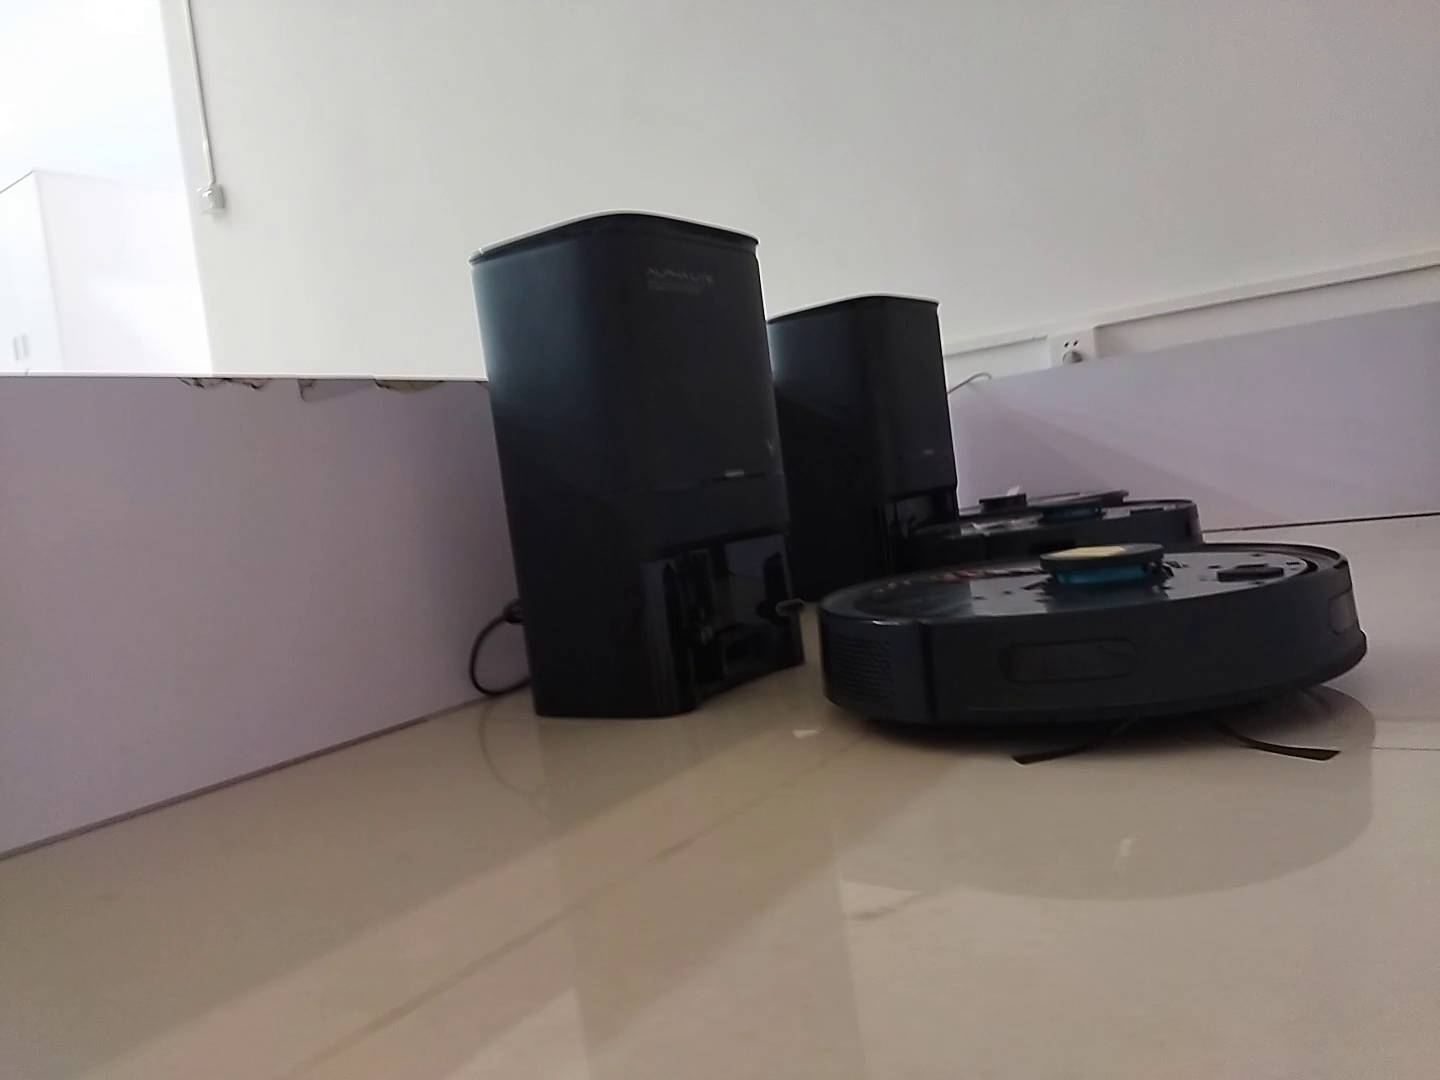dust collecting barrel: (469, 209, 808, 722), (769, 295, 960, 598)
